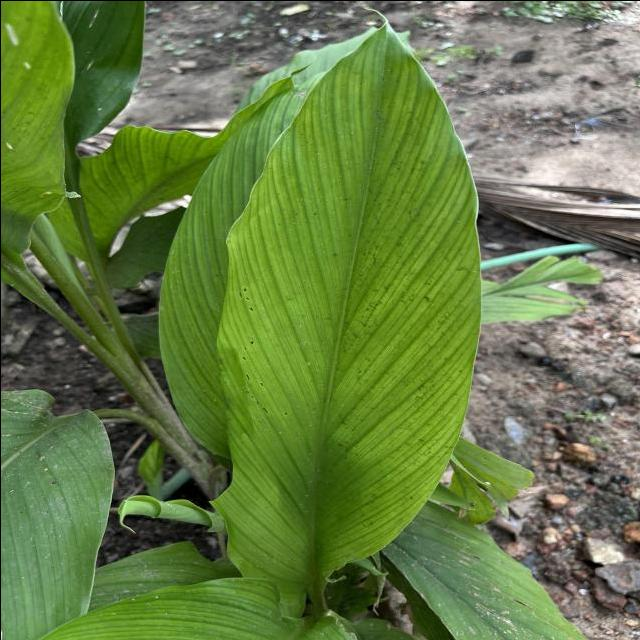Curcuma longa: (203, 2, 492, 606)
